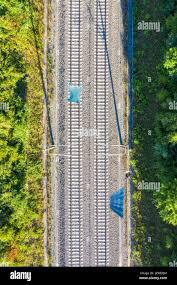Green_house: (62, 80, 85, 103)
